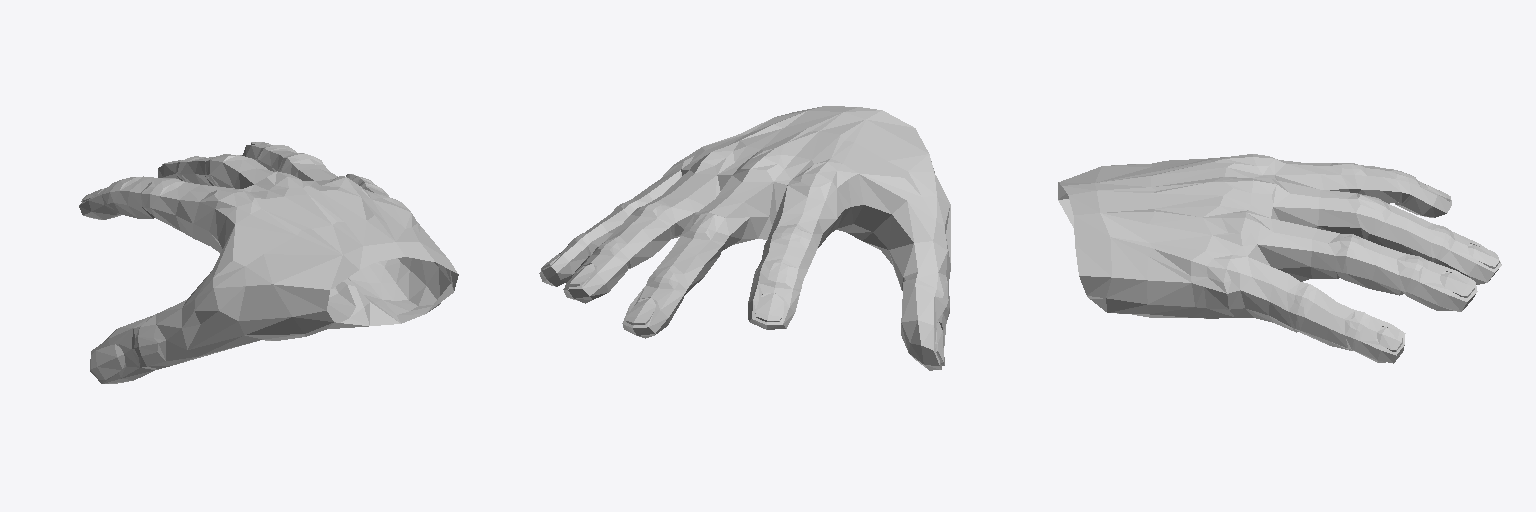
File: shaped_hand.obj
The picture shows the model from 3 angles: view 1: azimuth 30°, elevation 25°; view 2: azimuth 150°, elevation 25°; view 3: azimuth 270°, elevation 25°; orthographic projection.
Visible parts, largest first — view 1: hand; view 2: hand; view 3: hand.
Boxes of the visible parts, x1,y1,x2,y2 form: hand: [79, 142, 458, 383]; hand: [539, 106, 950, 370]; hand: [1058, 154, 1501, 363].
Size of the model in its own units: 57.78 by 27.36 by 65.18.